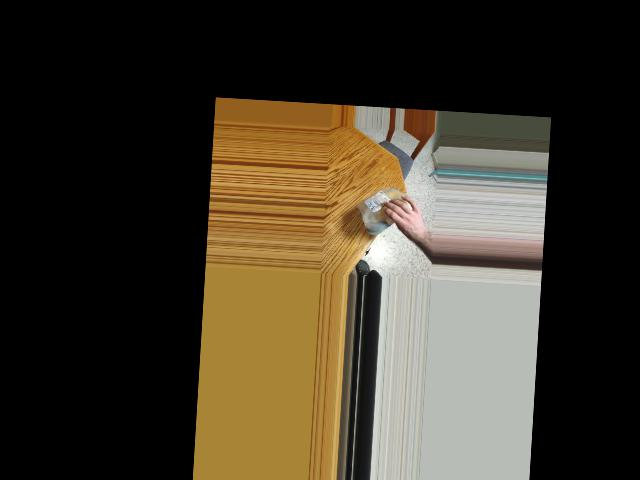cheese: (355, 181, 416, 230)
